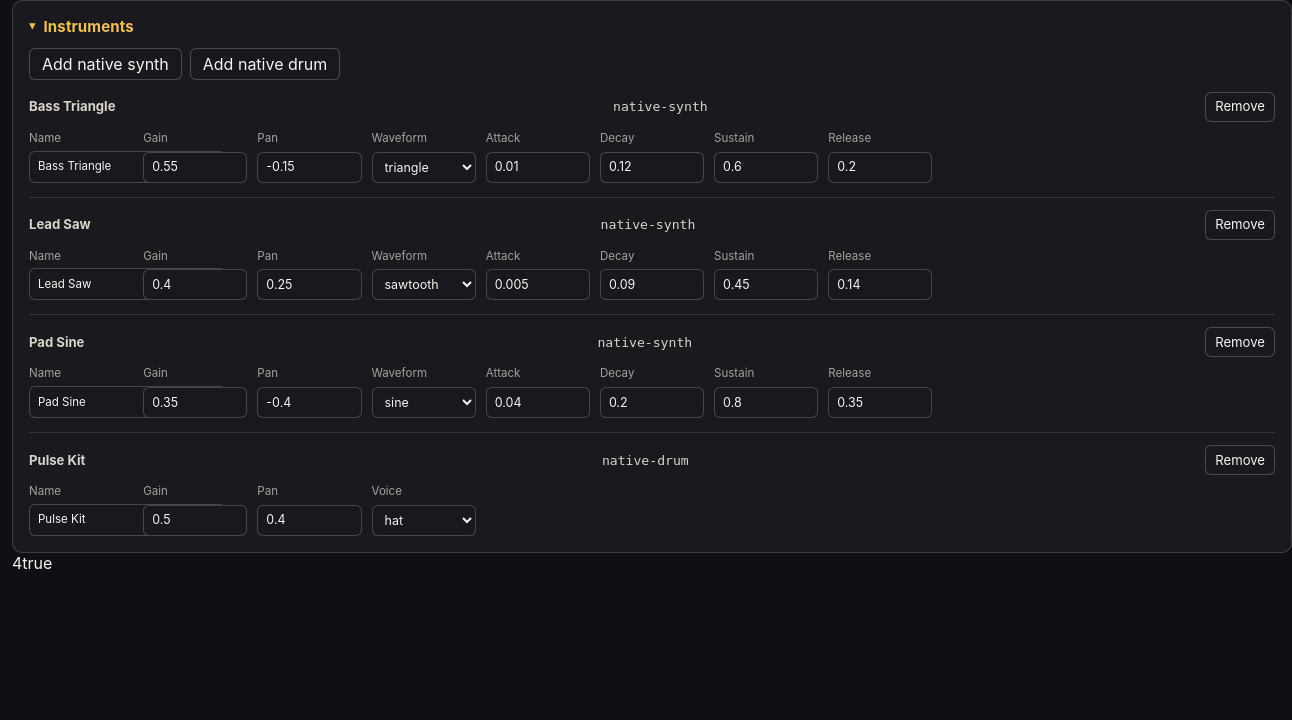
InstrumentPanel add and remove › removes an Instrument no Part is using
This screenshot has width=1292, height=720.
Click the button "Remove" in the row of "Bass Triangle": (1240, 107) x1=1205 y1=92 x2=1275 y2=122
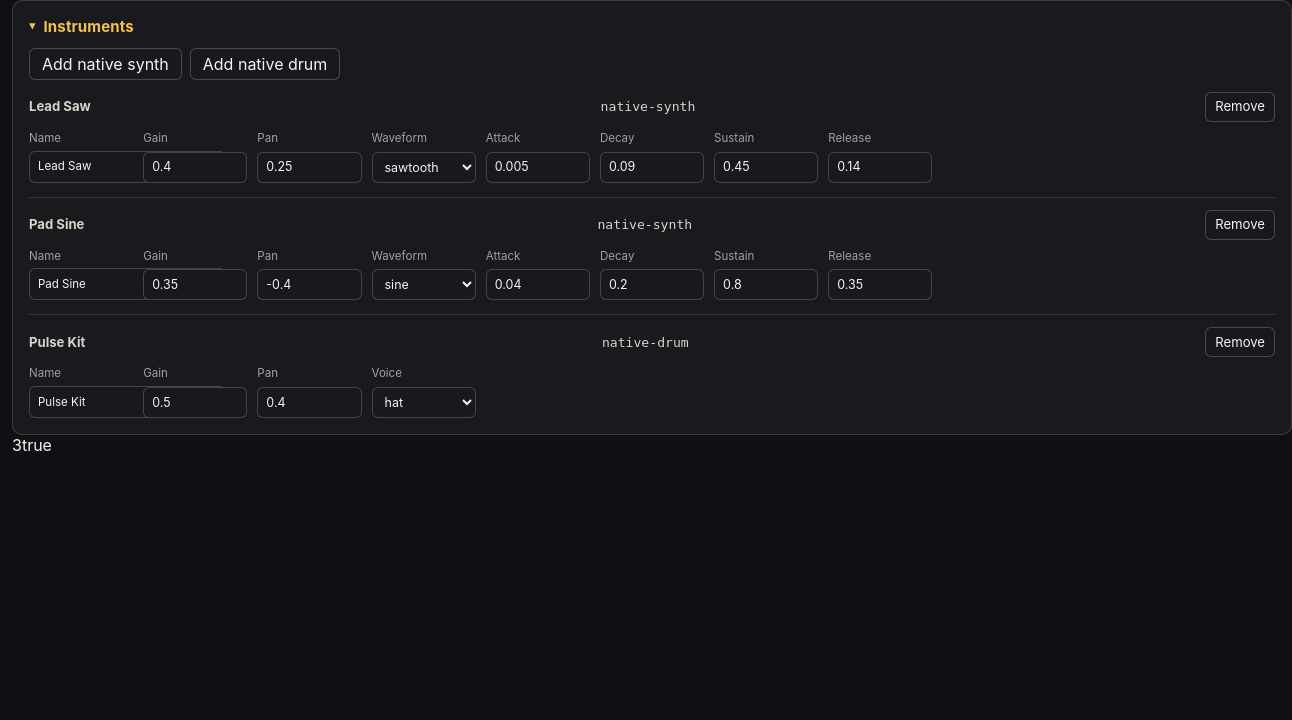
Check: the text named "Instrument count" reads "3", box x1=12 y1=435 x2=22 y2=455
Check: the text "Bass Triangle" is gone
